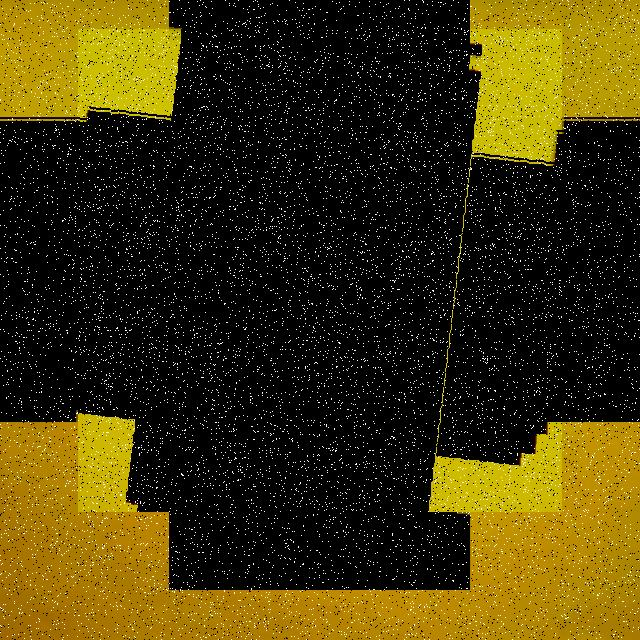lima puluh ribu rupiah: (78, 29, 562, 512)
